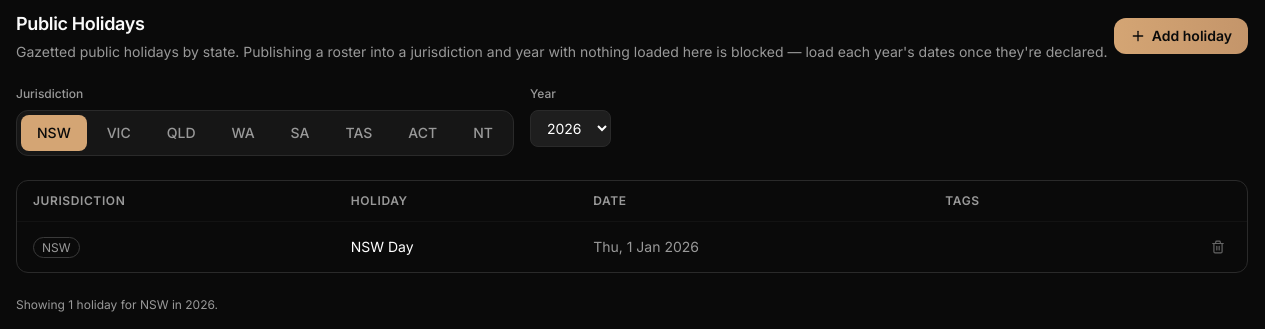
Test: PublicHolidaysTab › switching the jurisdiction pill updates the list instantly
Expected: the text "NSW Day" is shown, [335,222,577,272]
Click the tab "VIC" at [119, 133], box [91,115,147,151]
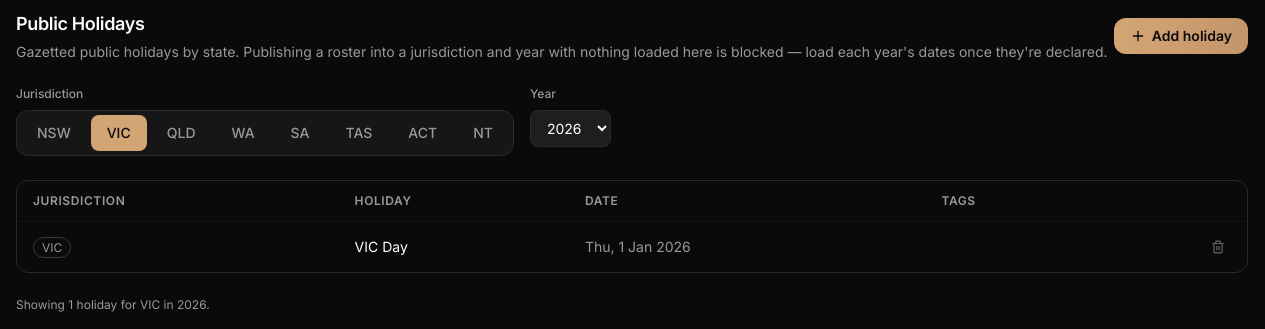
Now the text "VIC Day" is shown, box [339,222,569,272]
Now the text "NSW Day" is gone
